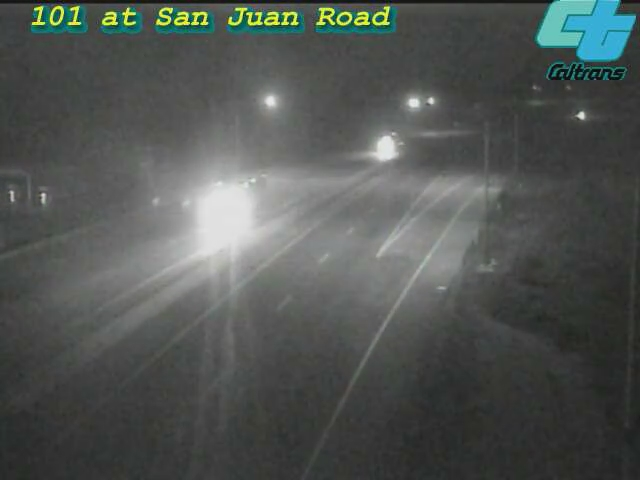vehicle: (201, 164, 281, 244), (363, 120, 413, 170), (558, 90, 608, 140)
